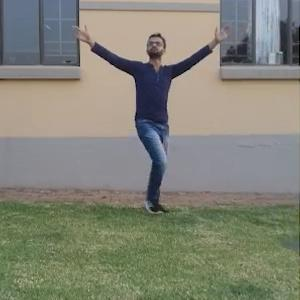takeoff: (78, 20, 239, 227)
